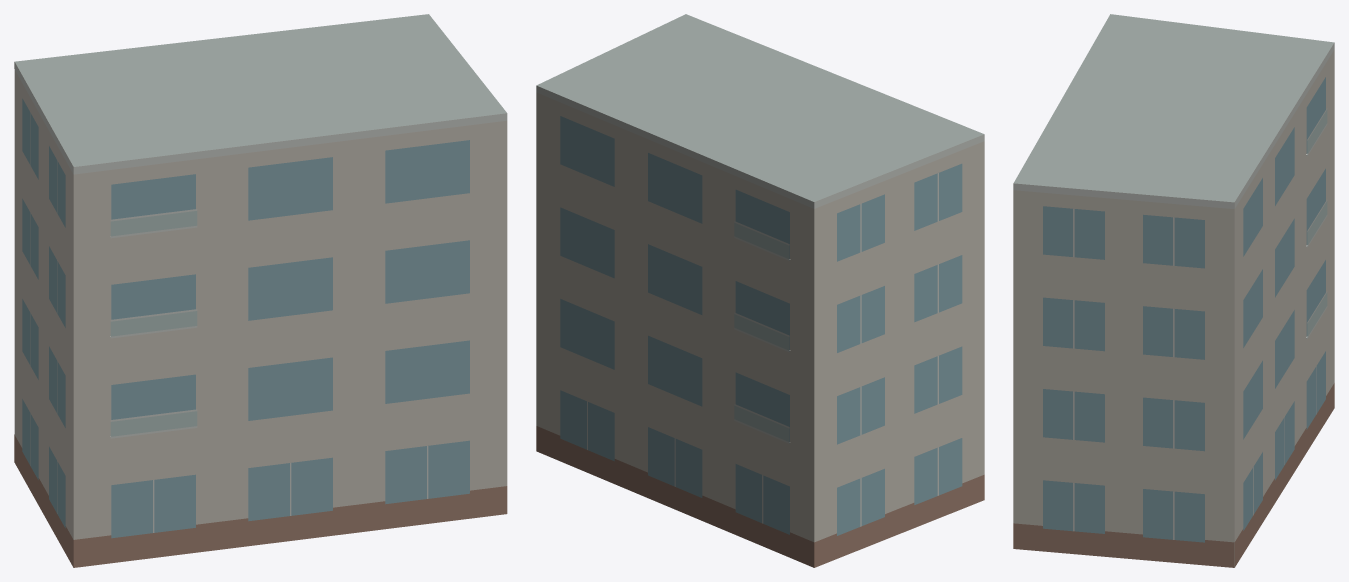
Rendered from survey-upis-32675984.glb.
3 views of the same model, side by side, from view 1: azimuth 30°, elevation 25°; view 2: azimuth 150°, elevation 25°; view 3: azimuth 270°, elevation 25° (orthographic). The views are drawn at different scales.
Visible parts, largest first — view 1: survey-upis-32675984.tmp; view 2: survey-upis-32675984.tmp; view 3: survey-upis-32675984.tmp.
Boxes of the visible parts, <box> form: survey-upis-32675984.tmp: <box>14,14,507,567</box>; survey-upis-32675984.tmp: <box>536,14,984,567</box>; survey-upis-32675984.tmp: <box>1013,14,1334,567</box>.
Size of the model in its own units: 14.49 by 13.1 by 10.44.
